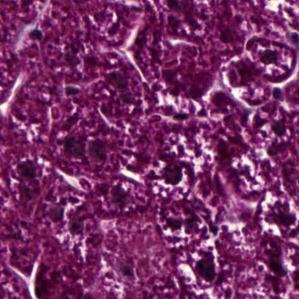inflammation: (214, 53, 280, 111), (255, 192, 299, 244), (148, 157, 194, 200), (185, 239, 223, 290)
